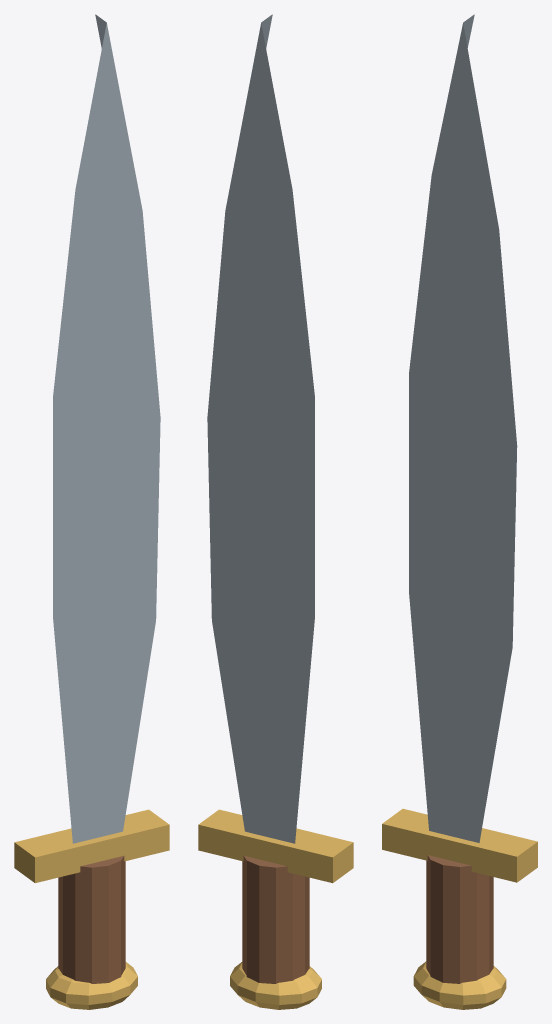
File: bhavani-talwar.glb
3 views of the same model, side by side, from view 1: azimuth 30°, elevation 25°; view 2: azimuth 150°, elevation 25°; view 3: azimuth 330°, elevation 25° (orthographic).
Parts seen in each view (by area): view 1: Bhavani Talwar; view 2: Bhavani Talwar; view 3: Bhavani Talwar.
Boxes of the visible parts, box(x1,y1,x2,y2) form: Bhavani Talwar: box(14, 14, 169, 1009); Bhavani Talwar: box(198, 14, 353, 1009); Bhavani Talwar: box(382, 14, 537, 1009).
Bounding box in the file's own units: 0.3 × 2.1 × 0.156.
